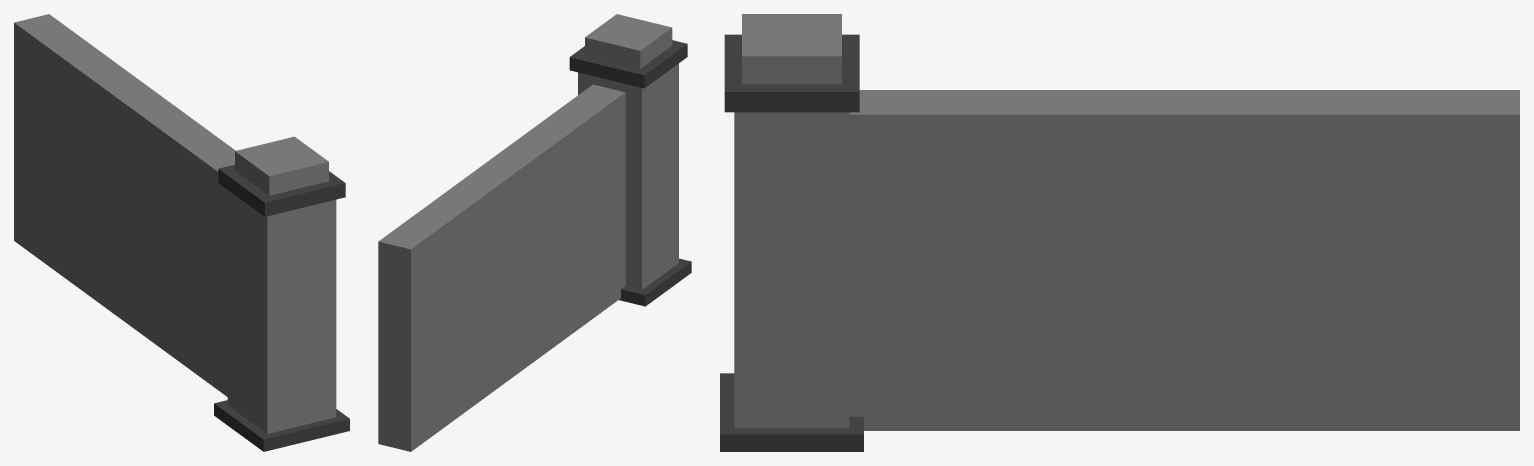
File: wall.fbx
3 renders of one model, left to right at view 1: azimuth 30°, elevation 25°; view 2: azimuth 150°, elevation 25°; view 3: azimuth 270°, elevation 25°, orthographic. The views are drawn at different scales.
Visible parts, largest first — view 1: wall; view 2: wall; view 3: wall.
Part boxes in pixels (x1=…): wall: x1=14, y1=14, x2=349, y2=451; wall: x1=378, y1=14, x2=691, y2=451; wall: x1=720, y1=14, x2=1519, y2=451.
Size of the model in its own units: 39.33 by 116 by 218.
